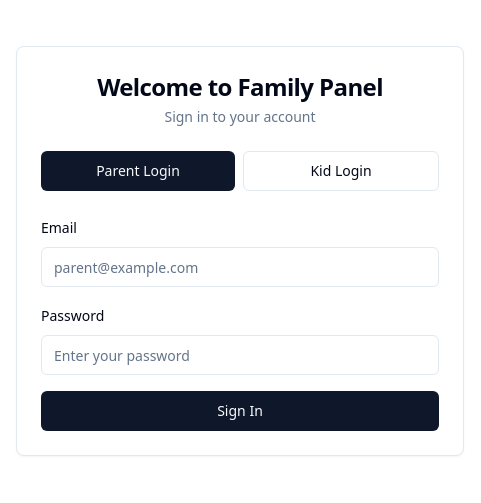
Test: Login Page › displays error message on failed login
Type "wrong@example.com" into the field labelled "Email".
click(240, 267); type("wrong@example.com")  # box [41, 247, 439, 287]
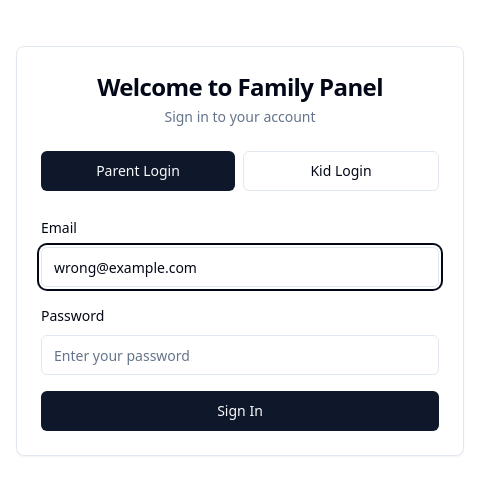
Type "wrongpassword" into the password field labelled "Password".
click(240, 355); type("wrongpassword")  # box [41, 335, 439, 375]
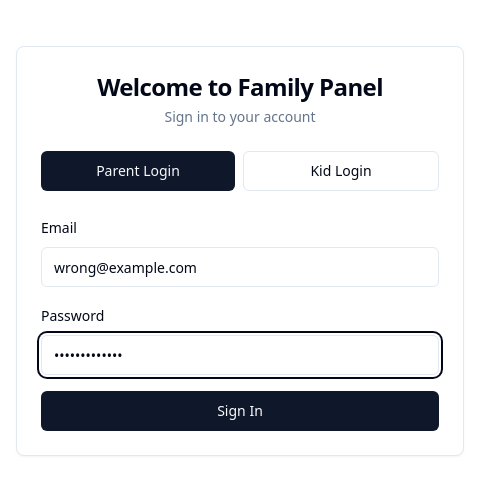
Click the button "Sign In".
click(240, 411)  # box [41, 391, 439, 431]
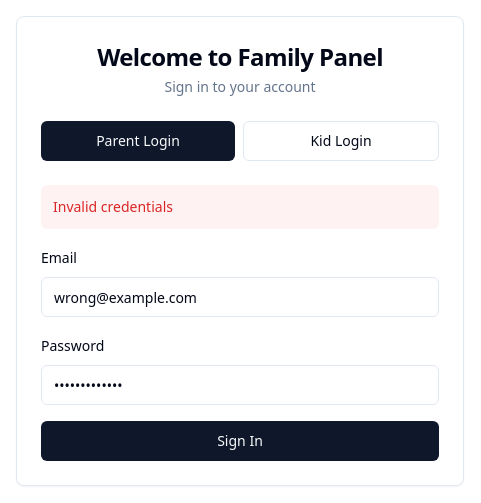
expect the text "Invalid credentials" is shown: met, box [41, 185, 439, 229]
